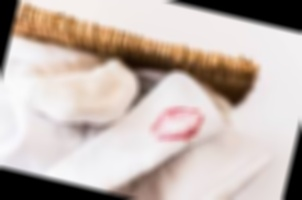lipstick: (150, 99, 207, 150)
